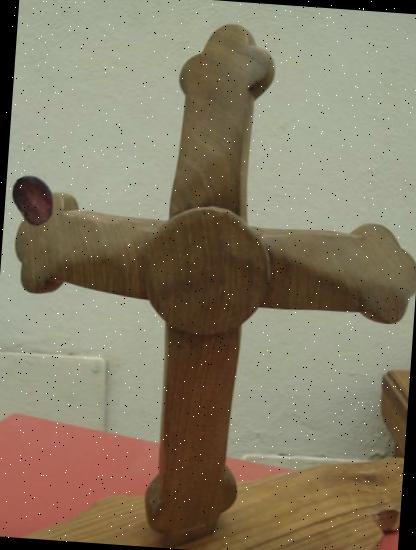Chestnut: (6, 172, 63, 228)
